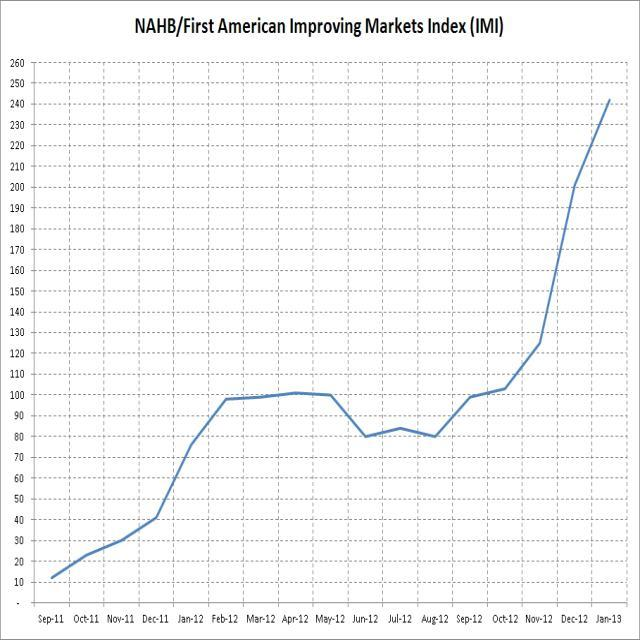axis: (29, 599, 632, 610), (28, 55, 38, 610)
line: (48, 94, 615, 582)
